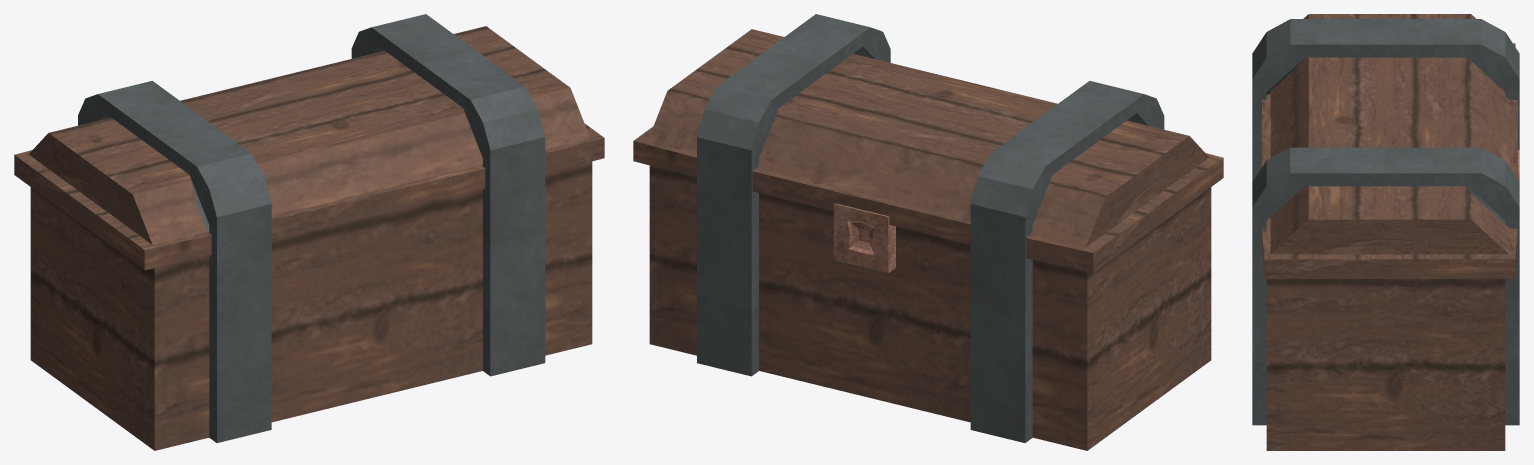
The model's file is Bau_Basico.fbx.
3 renders of one model, left to right at view 1: azimuth 30°, elevation 25°; view 2: azimuth 150°, elevation 25°; view 3: azimuth 270°, elevation 25°, orthographic. The views are drawn at different scales.
Visible parts, largest first — view 1: Bau_Inferior, Bau_Superior, Bau_metais; view 2: Bau_Inferior, Bau_Superior, Bau_metais, Bau_fechadura; view 3: Bau_Superior, Bau_Inferior, Bau_metais.
Boxes of the visible parts, x1,y1,x2,y2 form: Bau_Inferior: [30, 161, 592, 450]; Bau_Superior: [14, 26, 604, 270]; Bau_metais: [78, 14, 545, 442]; Bau_Inferior: [649, 165, 1211, 450]; Bau_Superior: [633, 29, 1223, 273]; Bau_metais: [697, 14, 1164, 442]; Bau_fechadura: [833, 203, 895, 273]; Bau_Superior: [1262, 14, 1517, 278]; Bau_Inferior: [1266, 93, 1505, 450]; Bau_metais: [1252, 19, 1519, 425].
Bounding box in the file's own units: 107 × 58.24 × 56.
Materials: 4 (4 with a texture image).
